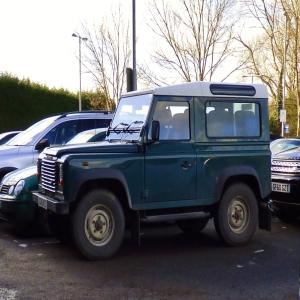Vehicle-registration-plate: (272, 182, 291, 194), (39, 197, 48, 211)
